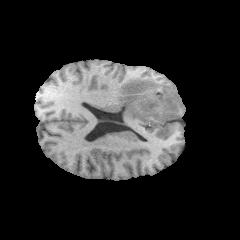glioma: (118, 78, 179, 123)
